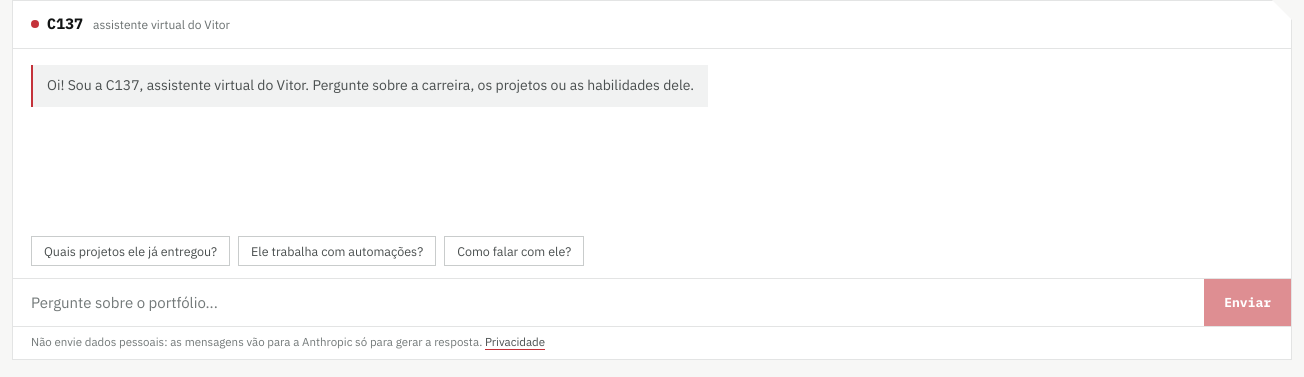
Test: C137 › explains the question limit instead of showing a generic error
Click the button "Como falar com ele?": coordinates (514, 251) [444,236,584,266]
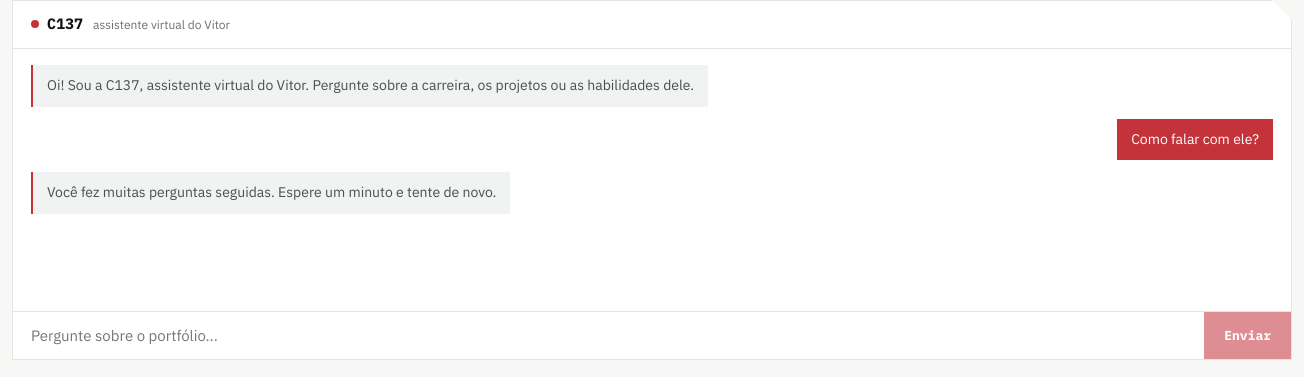
Expected: the text "Você fez muitas perguntas seguidas. Espere um minuto e tente de novo." is shown, [31,172,510,214]
